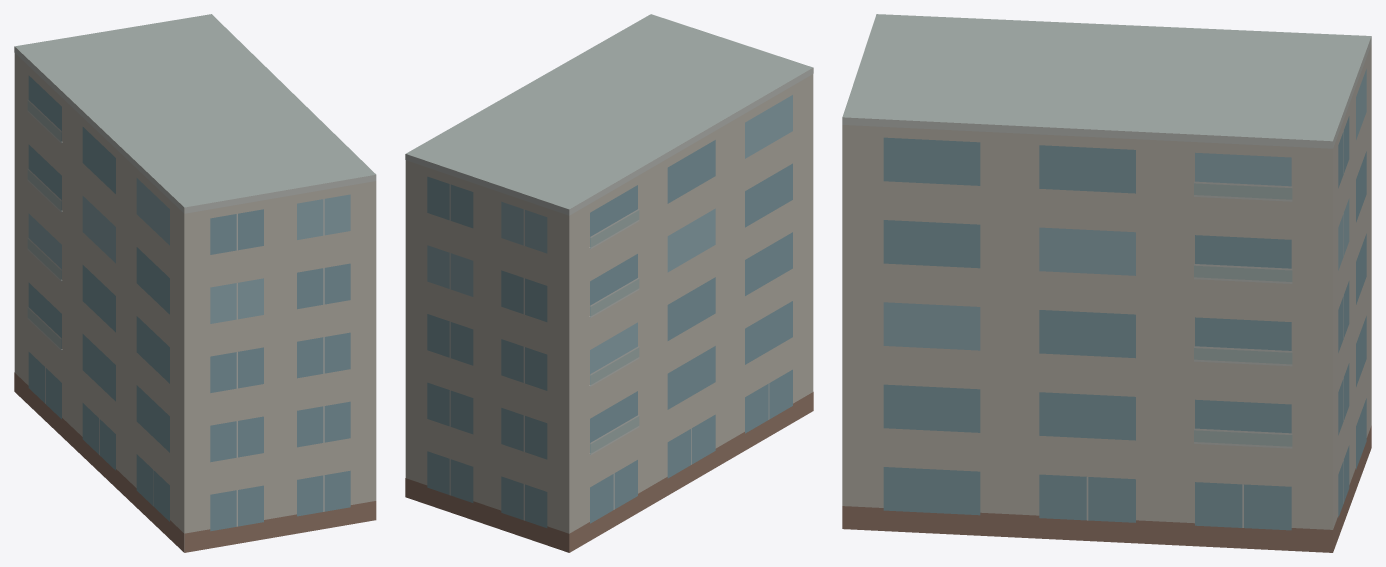
File: survey-upis-33014547.glb
The picture shows the model from 3 angles, left to right: view 1: azimuth 30°, elevation 25°; view 2: azimuth 150°, elevation 25°; view 3: azimuth 270°, elevation 25°; orthographic projection. The views are drawn at different scales.
Visible parts, largest first — view 1: survey-upis-33014547.tmp; view 2: survey-upis-33014547.tmp; view 3: survey-upis-33014547.tmp.
Boxes of the visible parts, x1=… form: survey-upis-33014547.tmp: x1=14, y1=14, x2=376, y2=552; survey-upis-33014547.tmp: x1=405, y1=14, x2=813, y2=552; survey-upis-33014547.tmp: x1=842, y1=14, x2=1371, y2=552.
Bounding box in the file's own units: 8.89 × 13.4 × 15.62.
